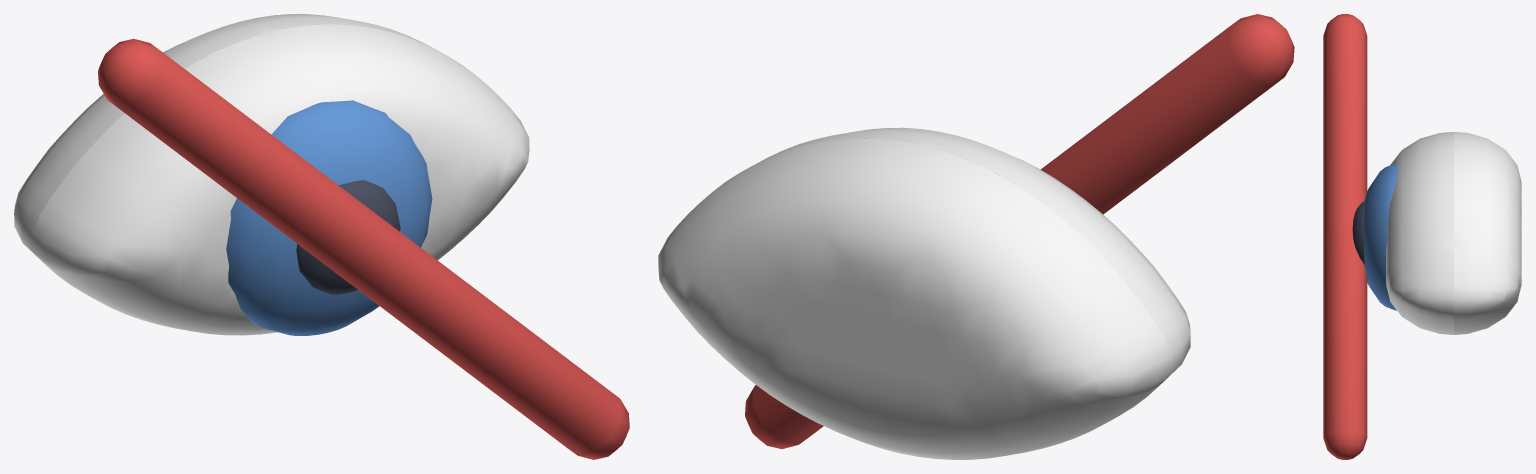
File: eye_off.glb
3 renders of one model, left to right at view 1: azimuth 30°, elevation 25°; view 2: azimuth 150°, elevation 25°; view 3: azimuth 270°, elevation 25°, orthographic. The views are drawn at different scales.
Parts seen in each view (by area): view 1: eye_off; view 2: eye_off; view 3: eye_off.
Part boxes in pixels (x1,y1,x2,y2): eye_off: [14, 14, 629, 459]; eye_off: [658, 14, 1294, 459]; eye_off: [1323, 14, 1521, 459].
Size of the model in its own units: 1 by 0.9625 by 0.5604.
